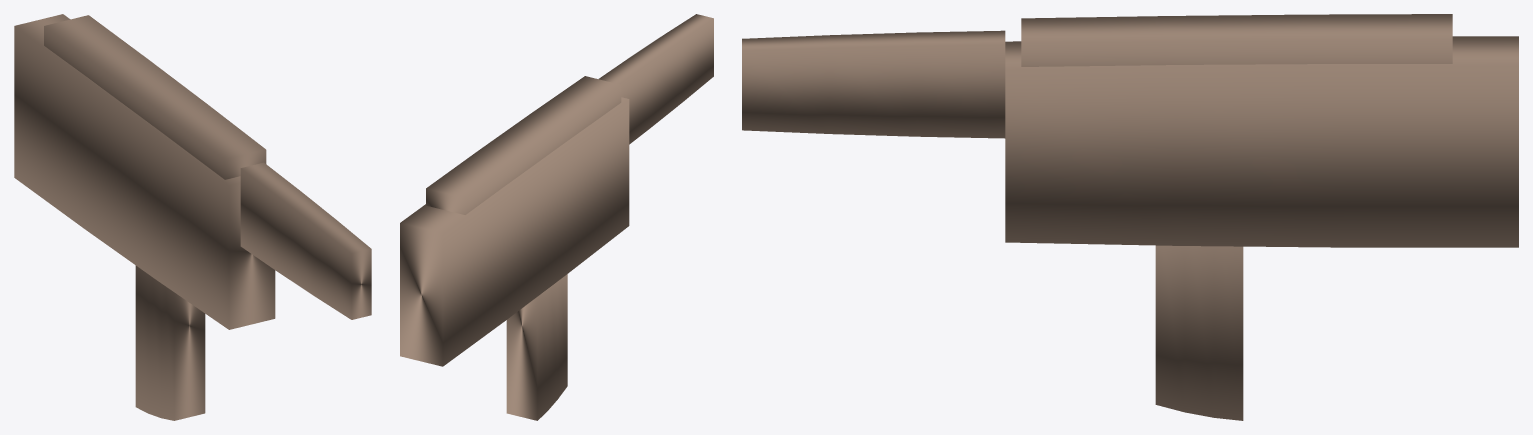
The model's file is wpn_ak74u_krinkov.glb.
3 views of the same model, side by side, from view 1: azimuth 30°, elevation 25°; view 2: azimuth 150°, elevation 25°; view 3: azimuth 270°, elevation 25° (orthographic). The views are drawn at different scales.
Parts seen in each view (by area): view 1: SubMesh_0_Receiver, SubMesh_1_Action, SubMesh_3_BarrelSight, SubMesh_2_Magazine; view 2: SubMesh_0_Receiver, SubMesh_1_Action, SubMesh_3_BarrelSight, SubMesh_2_Magazine; view 3: SubMesh_0_Receiver, SubMesh_3_BarrelSight, SubMesh_1_Action, SubMesh_2_Magazine.
Boxes of the visible parts, bbox=[...] form: SubMesh_0_Receiver: bbox=[14, 14, 275, 329]; SubMesh_1_Action: bbox=[44, 15, 266, 179]; SubMesh_3_BarrelSight: bbox=[240, 162, 371, 319]; SubMesh_2_Magazine: bbox=[135, 265, 205, 420]; SubMesh_0_Receiver: bbox=[400, 97, 629, 366]; SubMesh_1_Action: bbox=[426, 76, 621, 214]; SubMesh_3_BarrelSight: bbox=[599, 14, 713, 144]; SubMesh_2_Magazine: bbox=[506, 274, 567, 420]; SubMesh_0_Receiver: bbox=[1005, 36, 1518, 247]; SubMesh_3_BarrelSight: bbox=[742, 30, 1005, 138]; SubMesh_1_Action: bbox=[1021, 14, 1452, 66]; SubMesh_2_Magazine: bbox=[1155, 245, 1243, 420].
Size of the model in its own units: 0.054 by 0.3377 by 0.62.
